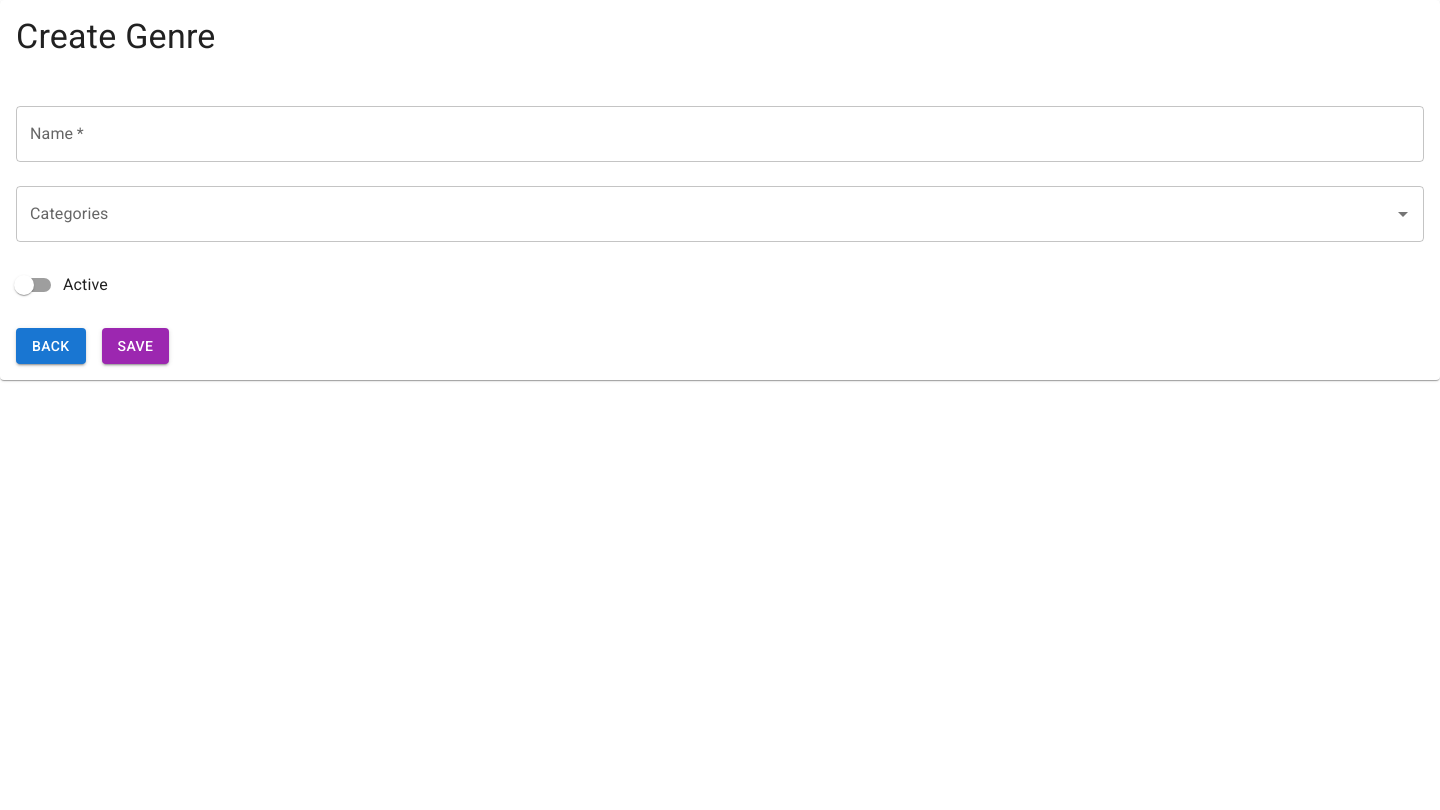
Test: Create Genre › should handle submit error
Expected: the button "Save" is shown, [102,328,169,364]
In the field with test id "name": (720, 134) [16,106,1424,162], type "Test"
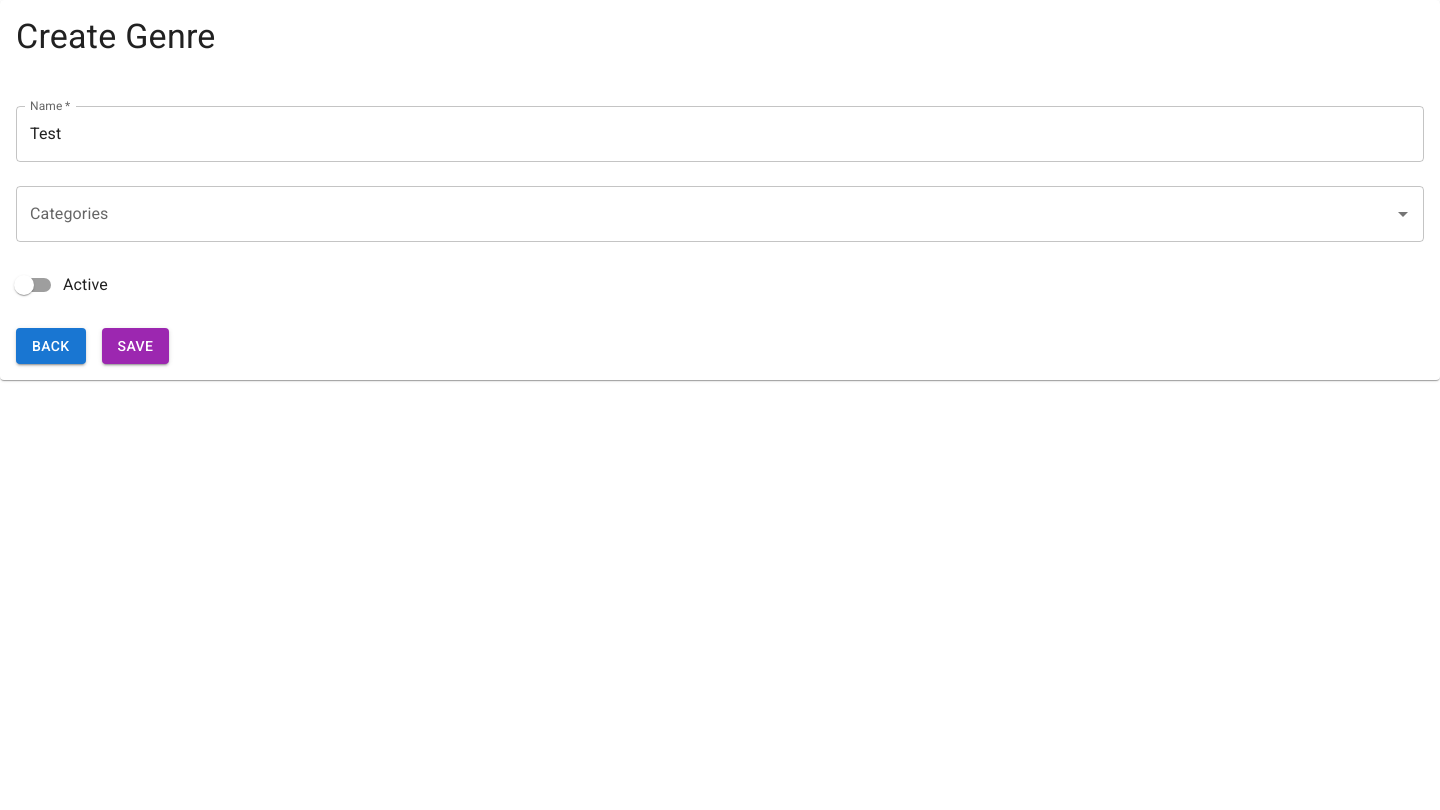
Click the button "Save": (136, 346) [102,328,169,364]
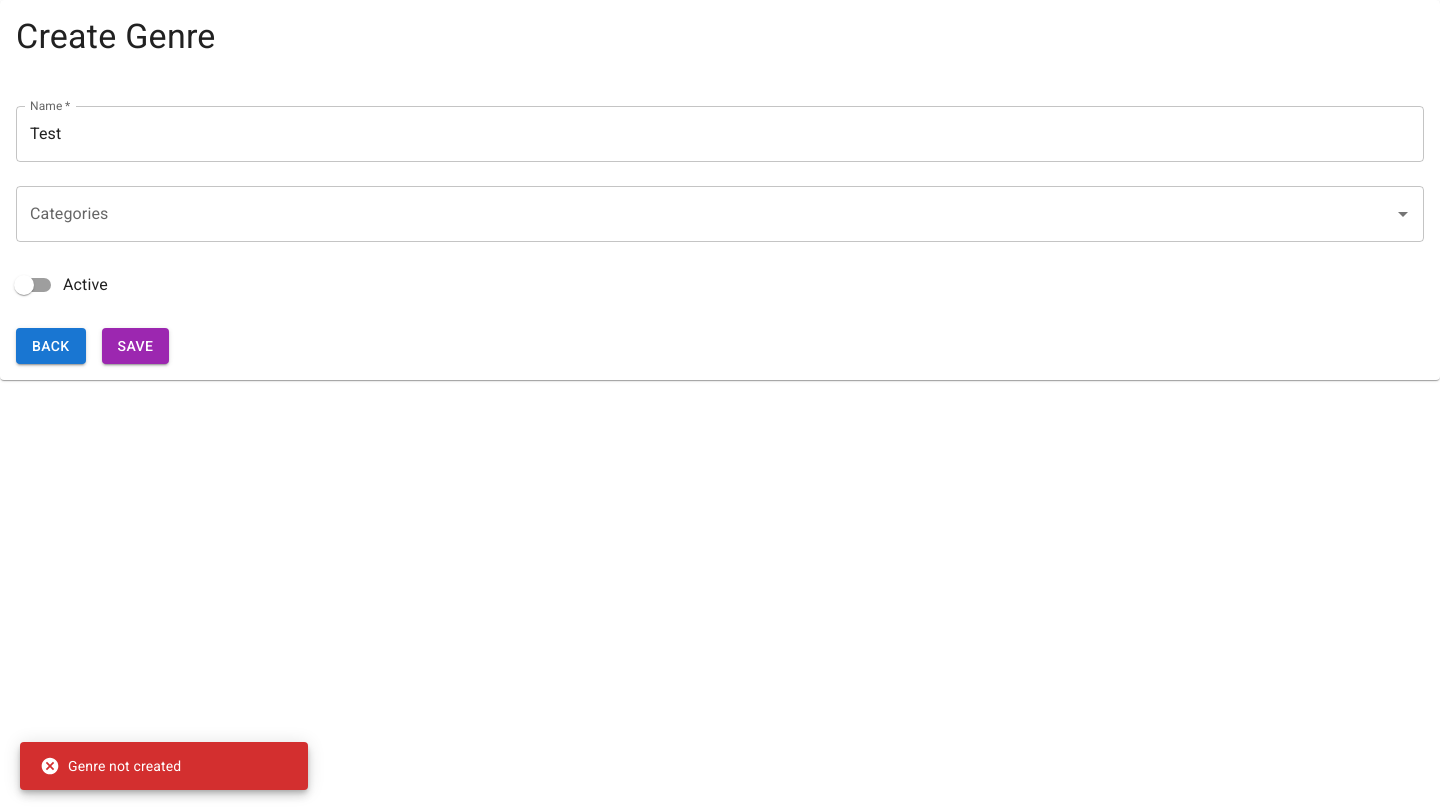
Expected: the text "Genre not created" is shown, [40,756,181,776]
